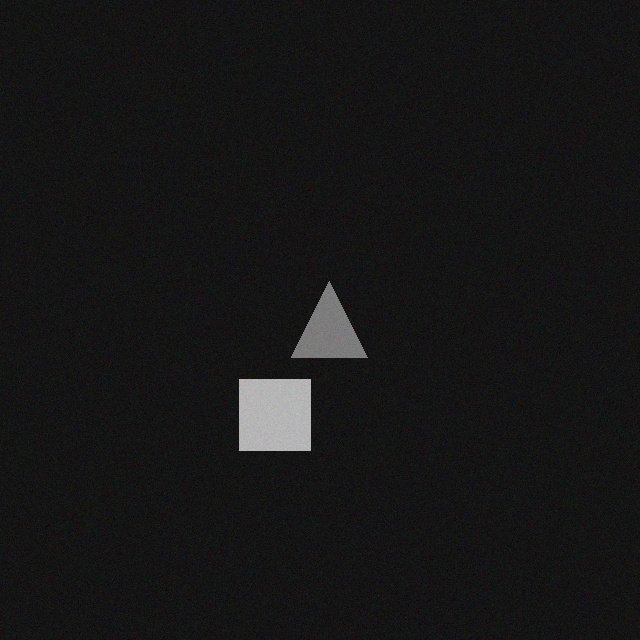square: (254, 364, 325, 435)
triangle: (306, 266, 382, 342)
